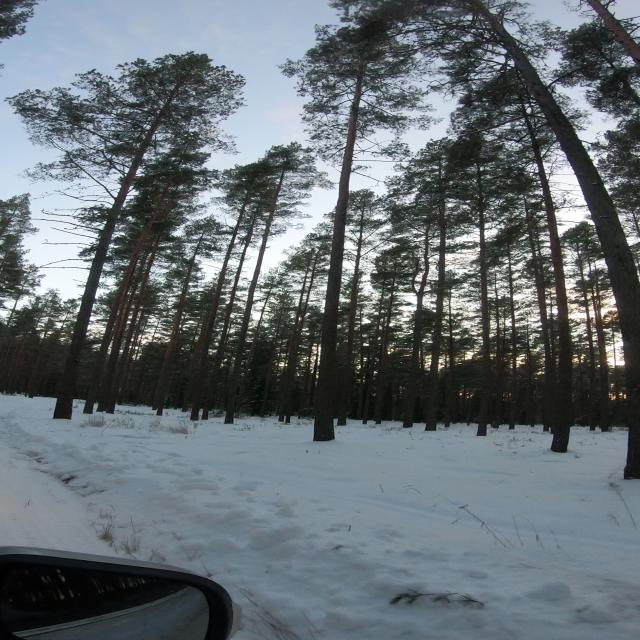trees: (466, 0, 640, 479), (53, 88, 178, 419), (83, 170, 177, 412), (314, 61, 364, 441), (525, 116, 573, 452), (187, 196, 248, 420), (224, 199, 275, 424), (425, 195, 447, 431), (475, 162, 492, 436)
